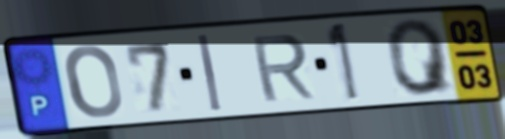1: (323, 19, 363, 105)
7: (121, 39, 175, 115)
I: (194, 32, 225, 114)
O: (62, 42, 126, 121)
Q: (383, 16, 457, 98)
R: (247, 31, 318, 105)
